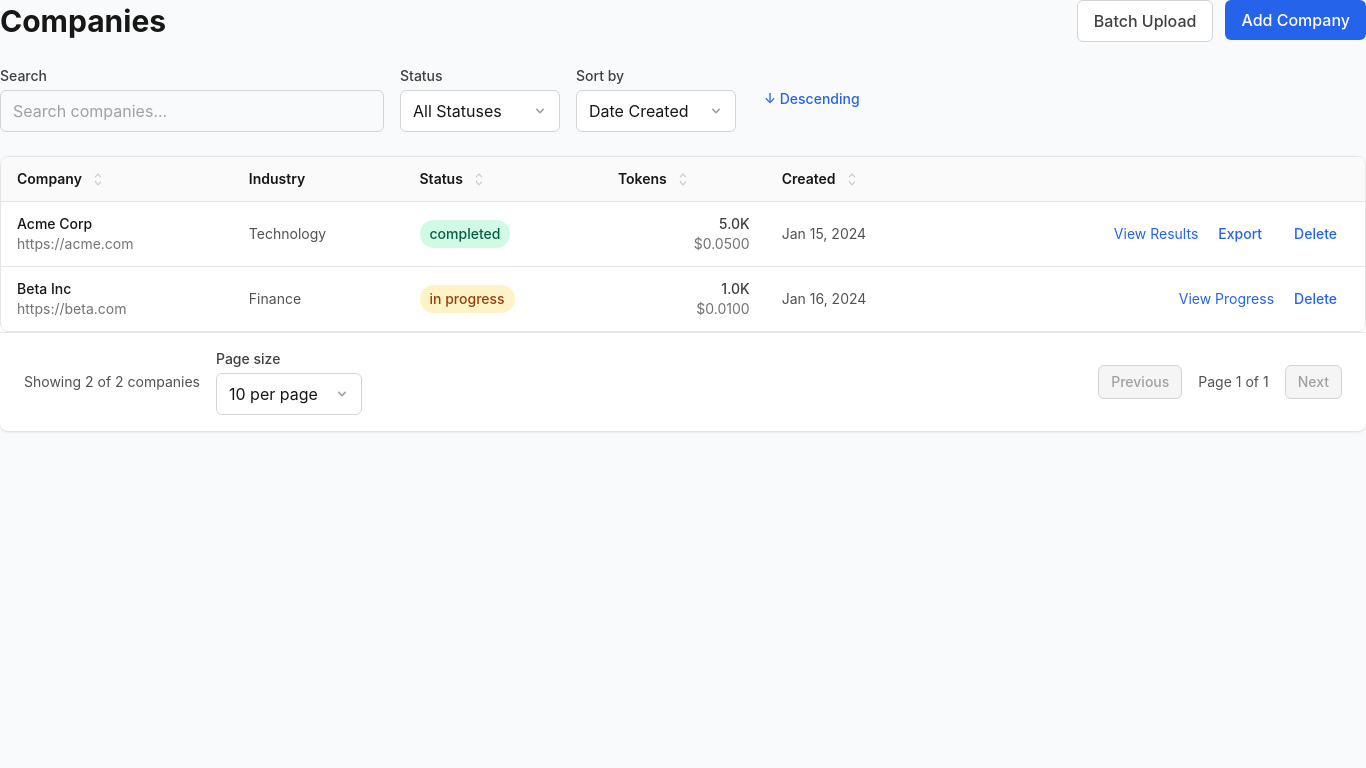
Scenario: Dashboard Actions › opens delete confirmation modal
Click first Delete button
Click the button "Delete" in the row of "View Results" at {"x": 1316, "y": 234}, box [1282, 218, 1349, 250]
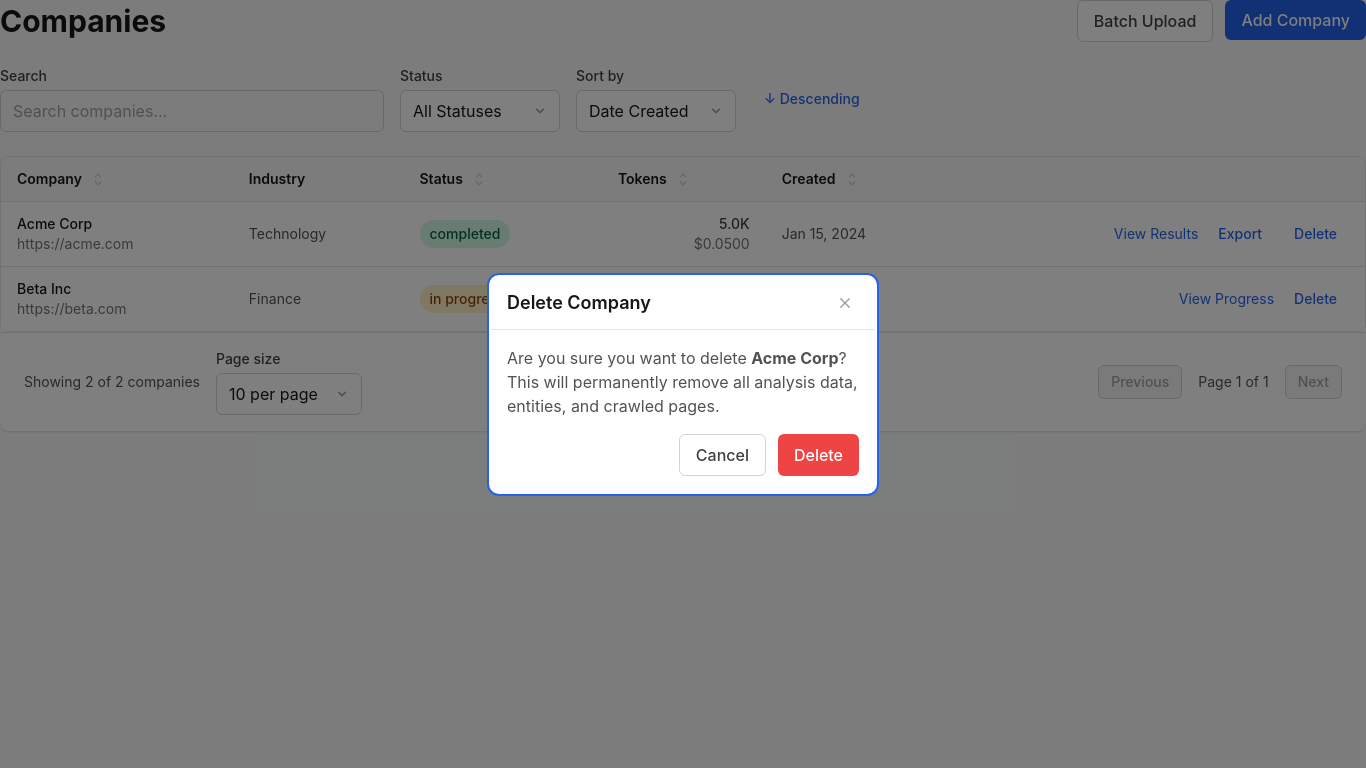
Now the text "Are you sure you want to delete" is shown, box [507, 348, 751, 368]
Now the button "Cancel" is shown, box [679, 434, 766, 476]
Now the button "Delete" is shown, box [778, 434, 859, 476]
